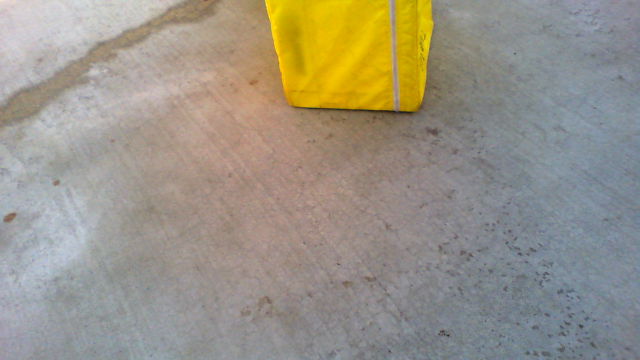cube: (265, 1, 435, 112)
